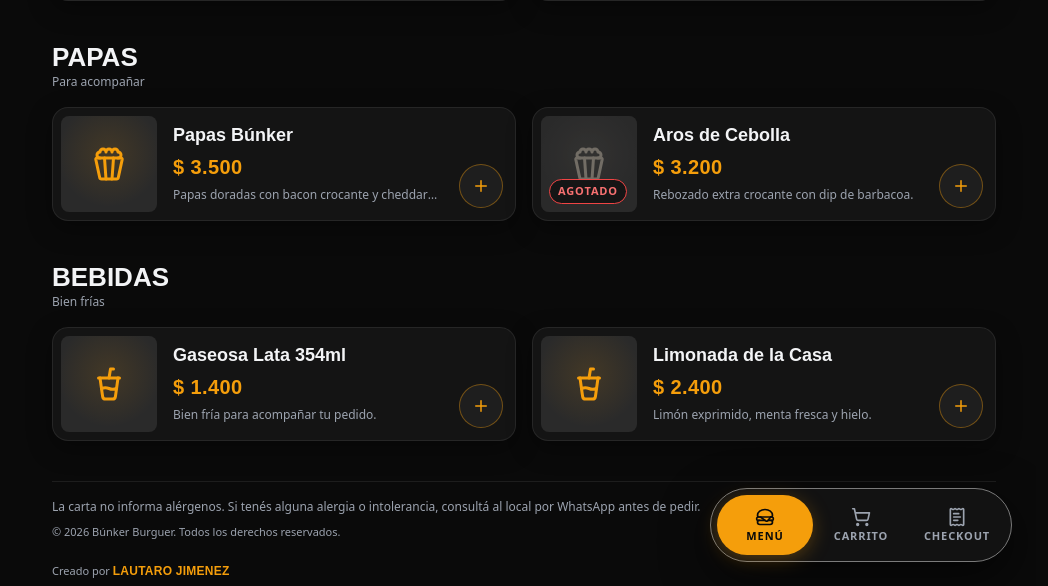
carta vacía (P1 A) › un 200 [] verificado después de una carta con productos la vacía y retira esos productos del carrito
This screenshot has width=1048, height=586.
(page scrolled)
Click the button named "Agregar Papas Búnker".
click(481, 186)  # box [459,164,503,208]
(page scrolled)
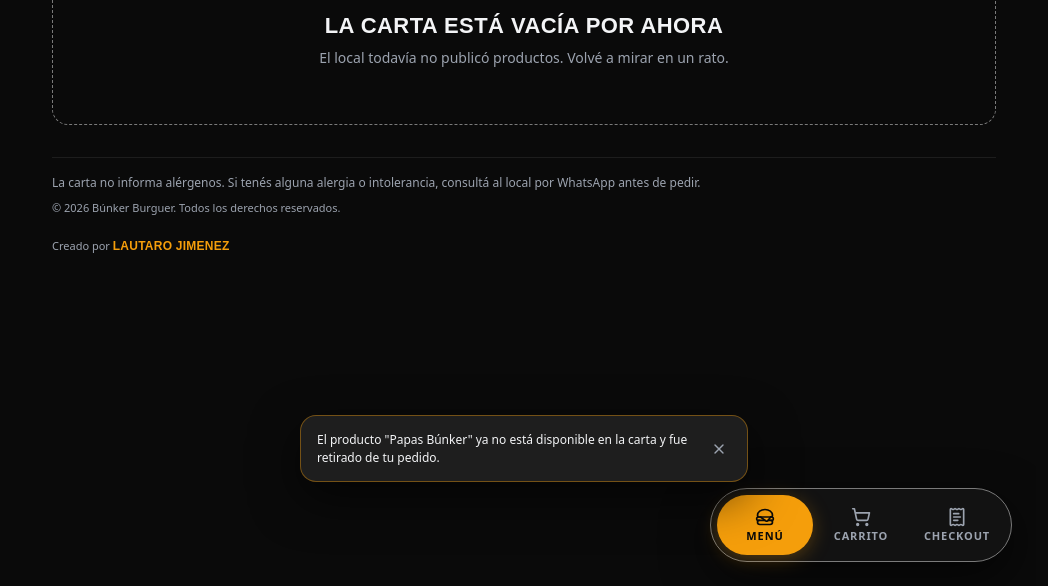
Expected: the link with aria-label "Carrito, 0 productos" is shown, [834,507,888,543]
Result: the heading "La carta está vacía por ahora" is shown at [325,9,723,42]
